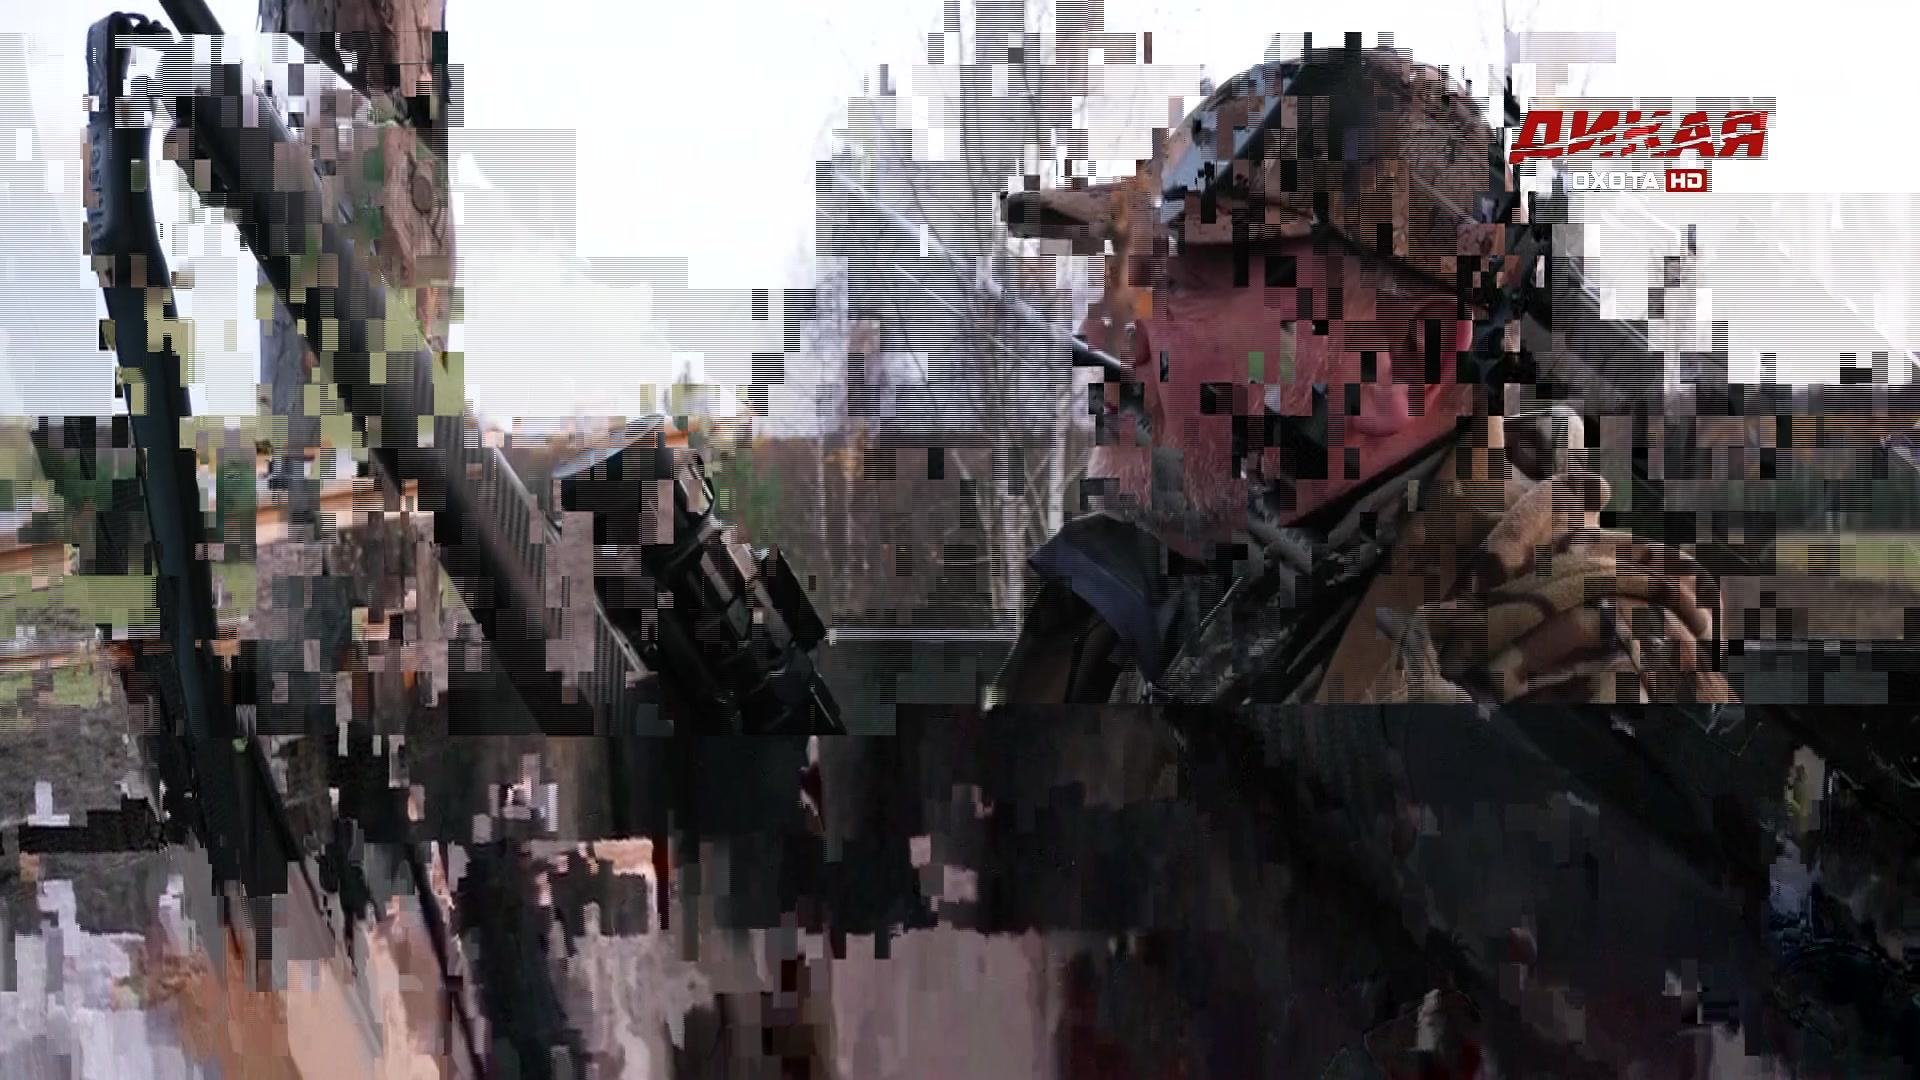Dikaya_Ohota_HD: (1503, 105, 1775, 200)
